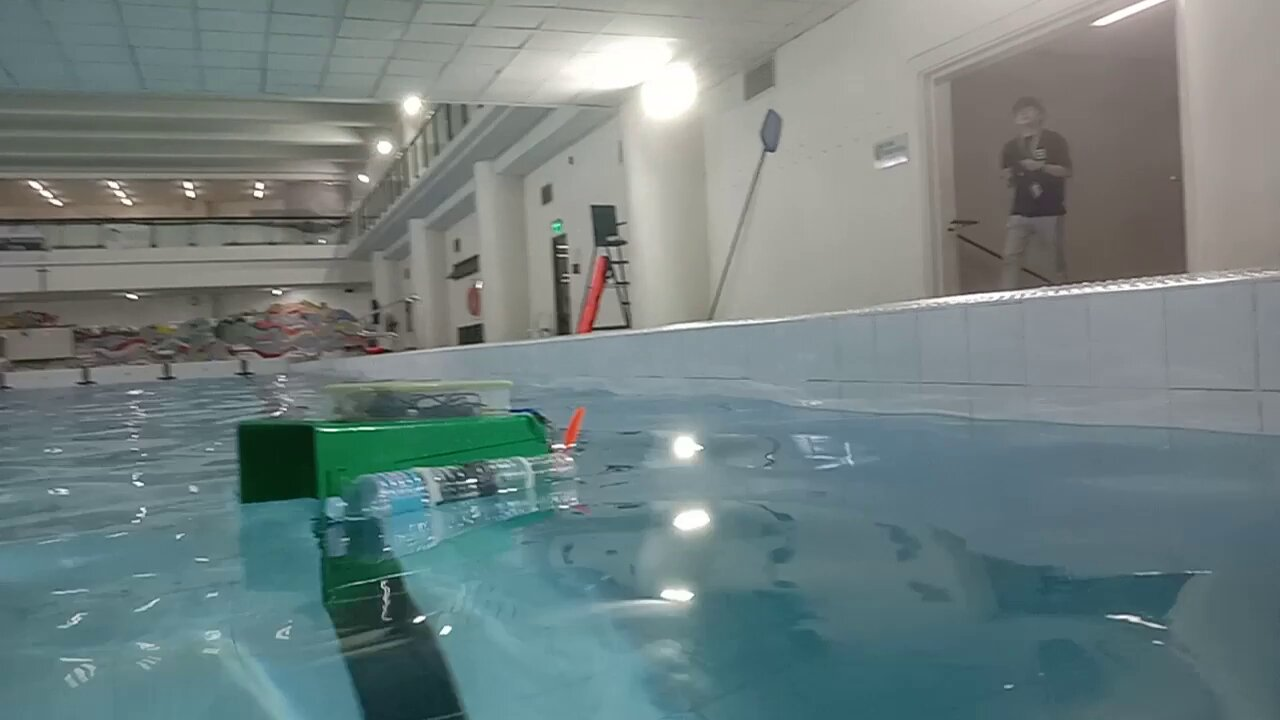drone: (237, 379, 585, 517)
